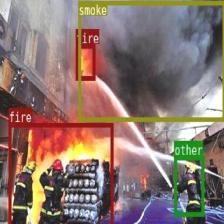fire: (8, 122, 113, 224), (76, 44, 94, 80)
smoke: (77, 0, 224, 121)
